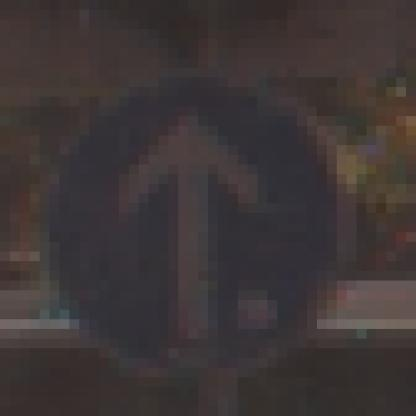AheadOnly: (61, 59, 368, 369)
